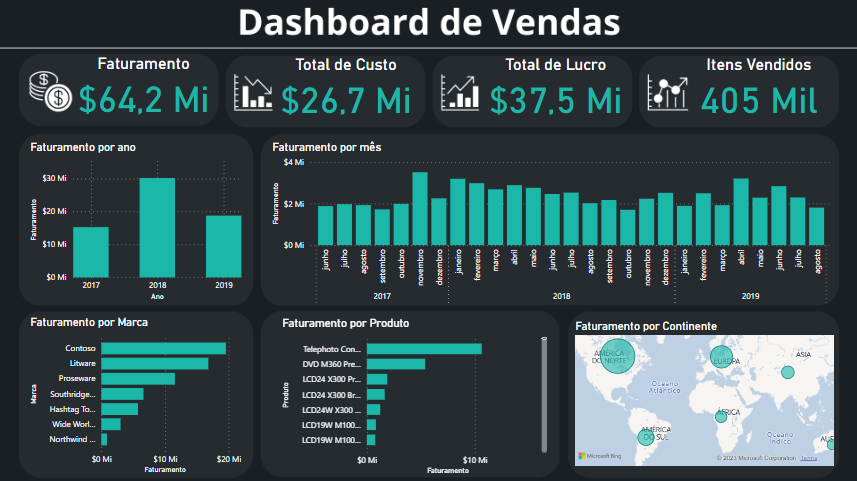

Layout of this report page (visuals, bound fields, positions):
{"tool":"powerbi","page":{"name":"Página 1","canvas":[1280,720],"ordinal":0},"visuals":[{"type":"card","title":"Faturamento","fields":{"Values":["Sum(Planilha1.Faturamento Total)"]},"box":[106.7,81.7,216.7,95],"z":0},{"type":"card","title":"Total de Custo","fields":{"Values":["Sum(Planilha1.Custo Total)"]},"box":[404.5,84.1,223.9,94.3],"z":1000},{"type":"card","title":"Total de Lucro","fields":{"Values":["Sum(Planilha1.Lucro Total)"]},"box":[716,84,226,94],"z":2000},{"type":"card","title":"Itens Vendidos","fields":{"Values":["Sum(Planilha1.Quantidade Vendida)"]},"box":[1020,83.3,226.7,93.3],"z":3000},{"type":"columnChart","title":"Faturamento por mês","fields":{"Y":["Sum(Planilha1.Faturamento Total)"],"Category":["Planilha1.Data da Venda.Variation.Hierarquia de datas.Ano","Planilha1.Data da Venda.Variation.Hierarquia de datas.Mês"]},"box":[401.1,210.2,845.5,263.6],"z":4000},{"type":"columnChart","title":"Faturamento por ano","fields":{"Category":["Planilha1.Data da Venda.Variation.Hierarquia de datas.Ano"],"Y":["Sum(Planilha1.Faturamento Total)"]},"box":[39.8,210.2,325,244.3],"z":5000},{"type":"barChart","title":"Faturamento por Marca","fields":{"Category":["Planilha1.Marca"],"Y":["Sum(Planilha1.Faturamento Total)"]},"box":[39.8,471.6,325,242],"z":6000},{"type":"map","title":"Faturamento por Continente","fields":{"Category":["Planilha1.Continente"],"Size":["Sum(Planilha1.Faturamento Total)"]},"box":[854,478,396,224],"z":6001},{"type":"barChart","title":"Faturamento por Produto","fields":{"Category":["Planilha1.Produto"],"Y":["Sum(Planilha1.Faturamento Total)"]},"box":[415.9,473.9,404.5,242],"z":6002}]}

Visuals, with their boxes in screenshot pixels (x1, y1, x2, y2), scaled from the page's 1280x720 canvas onto the 857x481 screenshot:
"Faturamento" card: (71, 55, 217, 118)
"Total de Custo" card: (271, 56, 421, 119)
"Total de Lucro" card: (479, 56, 631, 119)
"Itens Vendidos" card: (683, 56, 835, 118)
"Faturamento por mês" columnChart: (269, 140, 835, 317)
"Faturamento por ano" columnChart: (27, 140, 244, 304)
"Faturamento por Marca" barChart: (27, 315, 244, 477)
"Faturamento por Continente" map: (572, 319, 837, 469)
"Faturamento por Produto" barChart: (278, 317, 549, 478)
